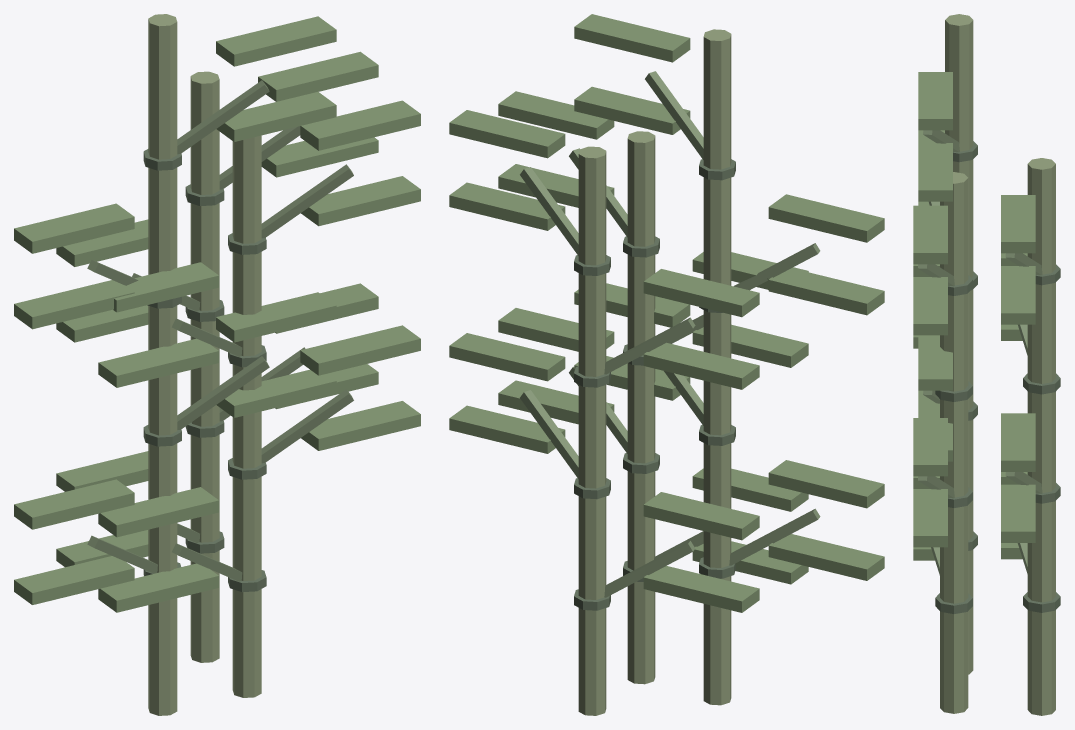
The model's file is bambu_grupo_rio.glb.
The picture shows the model from 3 angles, left to right: view 1: azimuth 30°, elevation 25°; view 2: azimuth 150°, elevation 25°; view 3: azimuth 270°, elevation 25°; orthographic projection. The views are drawn at different scales.
Visible parts, largest first — view 1: bambu_grupo_rio_part_017, bambu_grupo_rio_part_000, bambu_grupo_rio_part_034, bambu_grupo_rio_part_033, bambu_grupo_rio_part_021, bambu_grupo_rio_part_029, bambu_grupo_rio_part_008, bambu_grupo_rio_part_020, bambu_grupo_rio_part_016, bambu_grupo_rio_part_011, bambu_grupo_rio_part_004, bambu_grupo_rio_part_003 (+24 smaller); view 2: bambu_grupo_rio_part_017, bambu_grupo_rio_part_034, bambu_grupo_rio_part_000, bambu_grupo_rio_part_029, bambu_grupo_rio_part_042, bambu_grupo_rio_part_046, bambu_grupo_rio_part_021, bambu_grupo_rio_part_033, bambu_grupo_rio_part_050, bambu_grupo_rio_part_038, bambu_grupo_rio_part_037, bambu_grupo_rio_part_020 (+23 smaller); view 3: bambu_grupo_rio_part_034, bambu_grupo_rio_part_000, bambu_grupo_rio_part_017, bambu_grupo_rio_part_016, bambu_grupo_rio_part_007, bambu_grupo_rio_part_008, bambu_grupo_rio_part_015, bambu_grupo_rio_part_032, bambu_grupo_rio_part_033, bambu_grupo_rio_part_042, bambu_grupo_rio_part_049, bambu_grupo_rio_part_050 (+20 smaller).
Boxes of the visible parts, bbox=[...] form: bambu_grupo_rio_part_017: bbox=[148, 14, 177, 715]; bambu_grupo_rio_part_000: bbox=[232, 135, 261, 697]; bambu_grupo_rio_part_034: bbox=[190, 71, 219, 662]; bambu_grupo_rio_part_033: bbox=[216, 16, 336, 66]; bambu_grupo_rio_part_021: bbox=[14, 479, 134, 529]; bambu_grupo_rio_part_029: bbox=[14, 203, 134, 253]; bambu_grupo_rio_part_008: bbox=[300, 325, 420, 375]; bambu_grupo_rio_part_020: bbox=[14, 556, 134, 604]; bambu_grupo_rio_part_016: bbox=[300, 100, 420, 150]; bambu_grupo_rio_part_011: bbox=[98, 338, 218, 387]; bambu_grupo_rio_part_004: bbox=[98, 487, 218, 537]; bambu_grupo_rio_part_003: bbox=[98, 563, 218, 612]; bambu_grupo_rio_part_017: bbox=[703, 29, 731, 705]; bambu_grupo_rio_part_034: bbox=[578, 146, 606, 715]; bambu_grupo_rio_part_000: bbox=[627, 131, 655, 684]; bambu_grupo_rio_part_029: bbox=[768, 194, 884, 242]; bambu_grupo_rio_part_042: bbox=[449, 333, 565, 381]; bambu_grupo_rio_part_046: bbox=[643, 269, 759, 317]; bambu_grupo_rio_part_021: bbox=[768, 460, 884, 508]; bambu_grupo_rio_part_033: bbox=[574, 14, 690, 62]; bambu_grupo_rio_part_050: bbox=[449, 110, 565, 158]; bambu_grupo_rio_part_038: bbox=[643, 492, 759, 540]; bambu_grupo_rio_part_037: bbox=[643, 566, 759, 612]; bambu_grupo_rio_part_020: bbox=[768, 534, 884, 580]; bambu_grupo_rio_part_034: bbox=[1027, 158, 1055, 715]; bambu_grupo_rio_part_000: bbox=[940, 172, 968, 713]; bambu_grupo_rio_part_017: bbox=[945, 14, 973, 674]; bambu_grupo_rio_part_016: bbox=[913, 205, 947, 264]; bambu_grupo_rio_part_007: bbox=[913, 489, 947, 547]; bambu_grupo_rio_part_008: bbox=[913, 418, 947, 476]; bambu_grupo_rio_part_015: bbox=[913, 277, 947, 335]; bambu_grupo_rio_part_032: bbox=[918, 143, 952, 201]; bambu_grupo_rio_part_033: bbox=[918, 72, 952, 130]; bambu_grupo_rio_part_042: bbox=[1001, 413, 1035, 471]; bambu_grupo_rio_part_049: bbox=[1001, 266, 1035, 324]; bambu_grupo_rio_part_050: bbox=[1001, 195, 1035, 253].
Bounding box in the file's own units: 2.71 × 4.57 × 0.9387.
